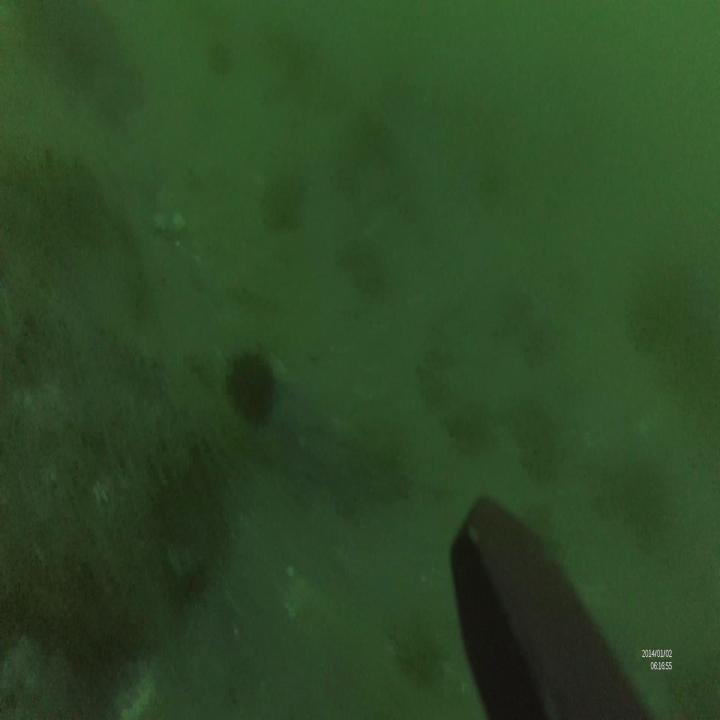echinus: (228, 348, 275, 423)
